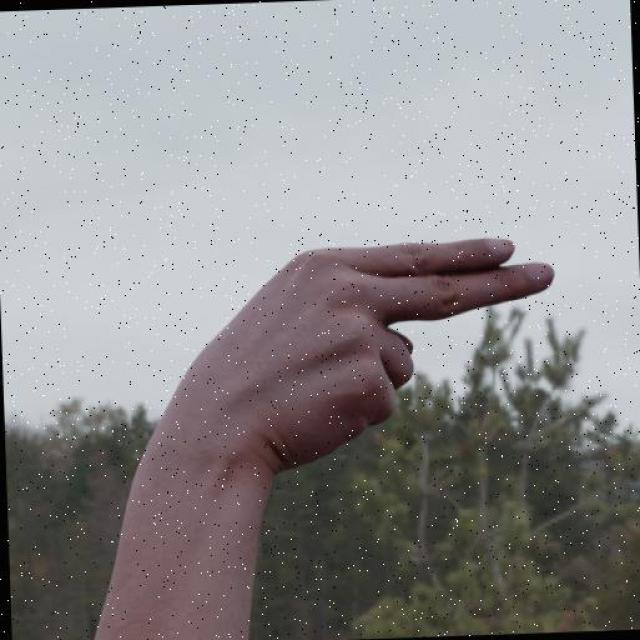H: (145, 231, 571, 480)
